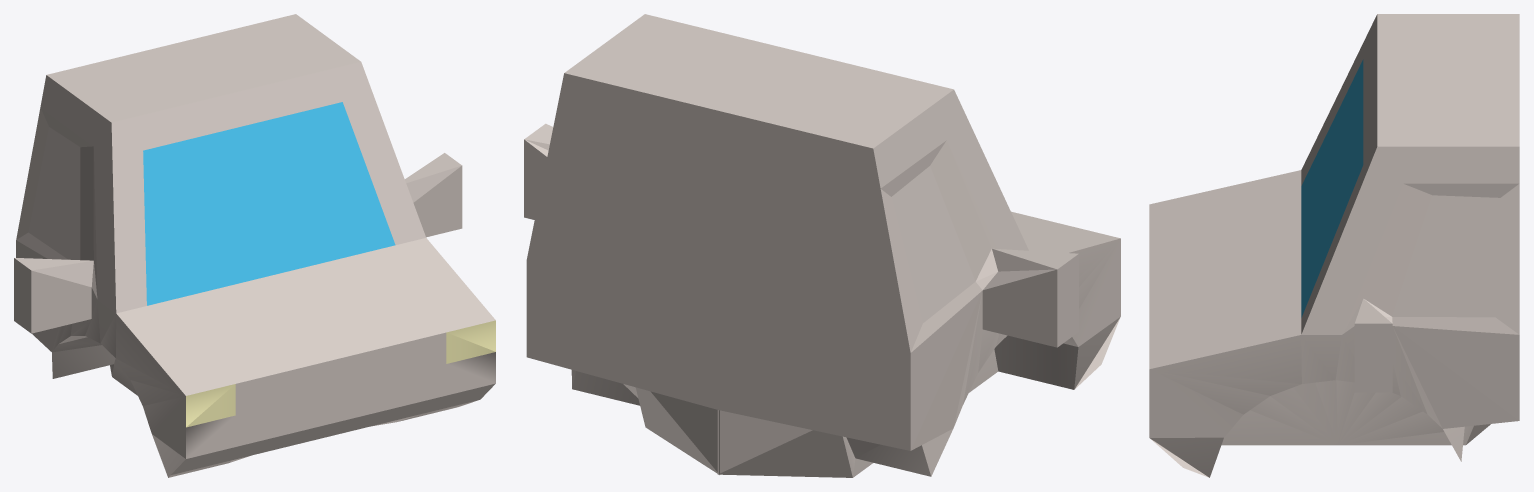
The model's file is Medium Truck Cabin.fbx.
The picture shows the model from 3 angles, left to right: view 1: azimuth 30°, elevation 25°; view 2: azimuth 150°, elevation 25°; view 3: azimuth 270°, elevation 25°; orthographic projection. The views are drawn at different scales.
Visible parts, largest first — view 1: Cabin; view 2: Cabin; view 3: Cabin.
Boxes of the visible parts, x1,y1,x2,y2 form: Cabin: [14, 14, 495, 477]; Cabin: [524, 14, 1120, 477]; Cabin: [1149, 14, 1519, 477].
Bounding box in the file's own units: 163 × 106 × 111.
